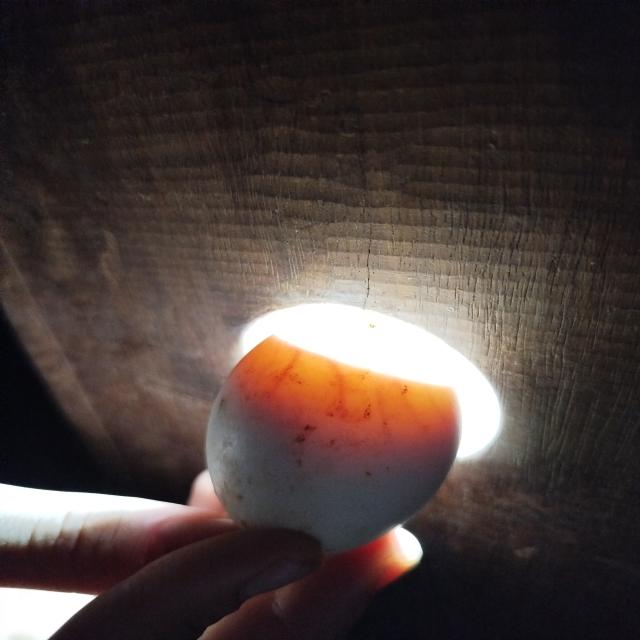Embriao: (206, 384, 458, 555)
